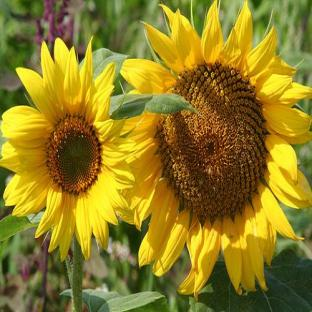sunflower: (120, 0, 312, 297), (0, 38, 136, 312)
